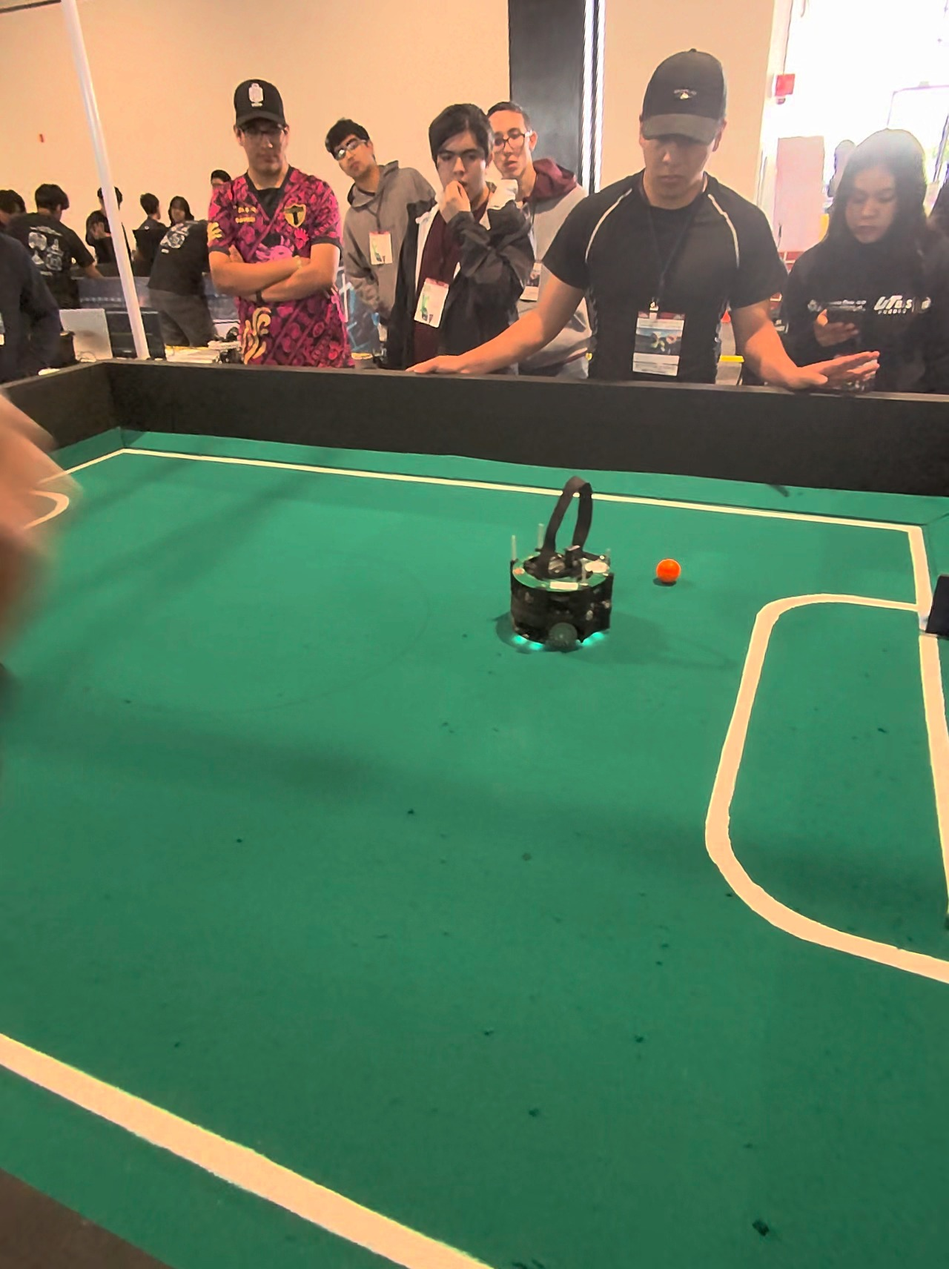Robot: (497, 474, 613, 672)
pelota: (651, 552, 687, 589)
